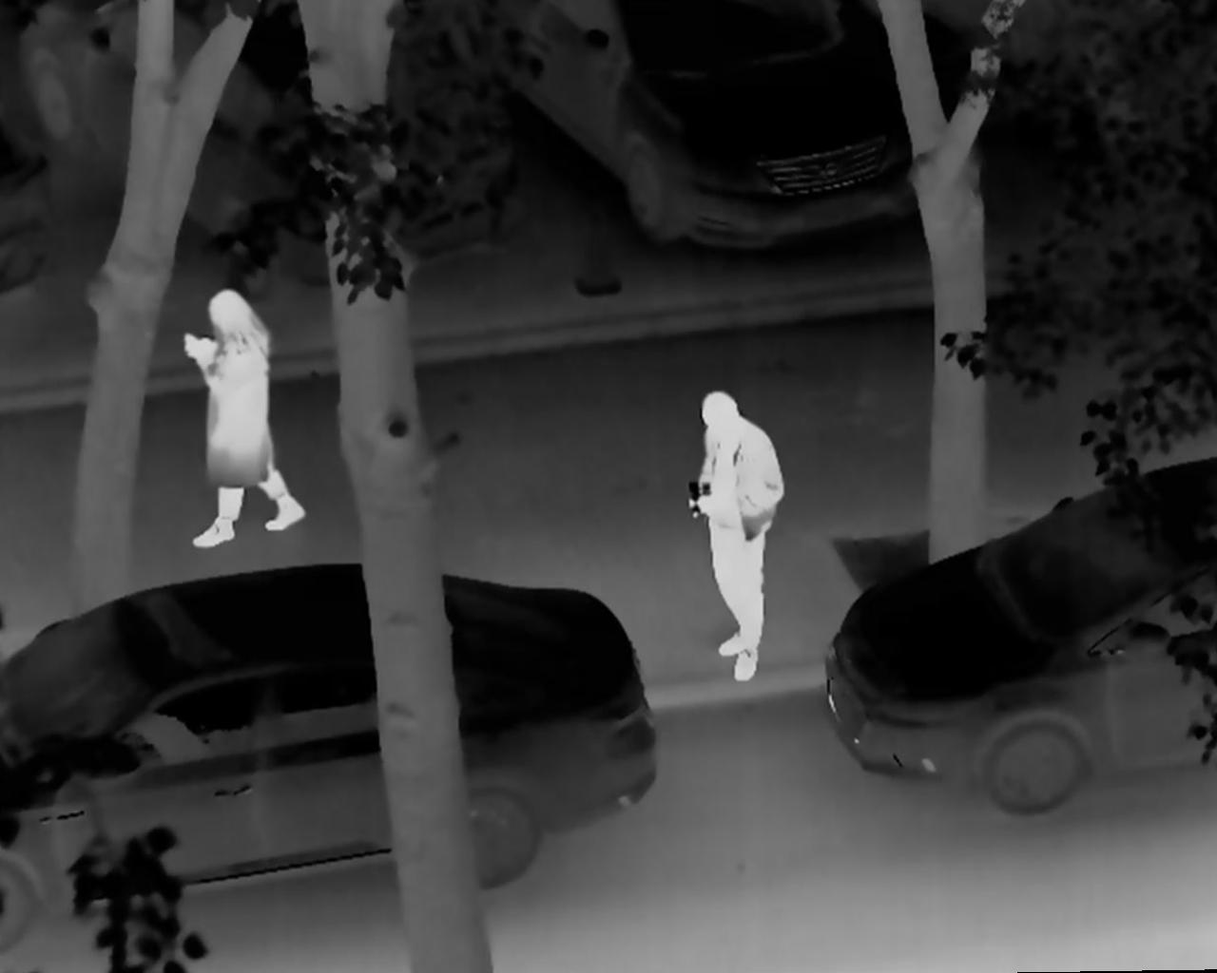person: (179, 289, 310, 549), (684, 372, 787, 678)
